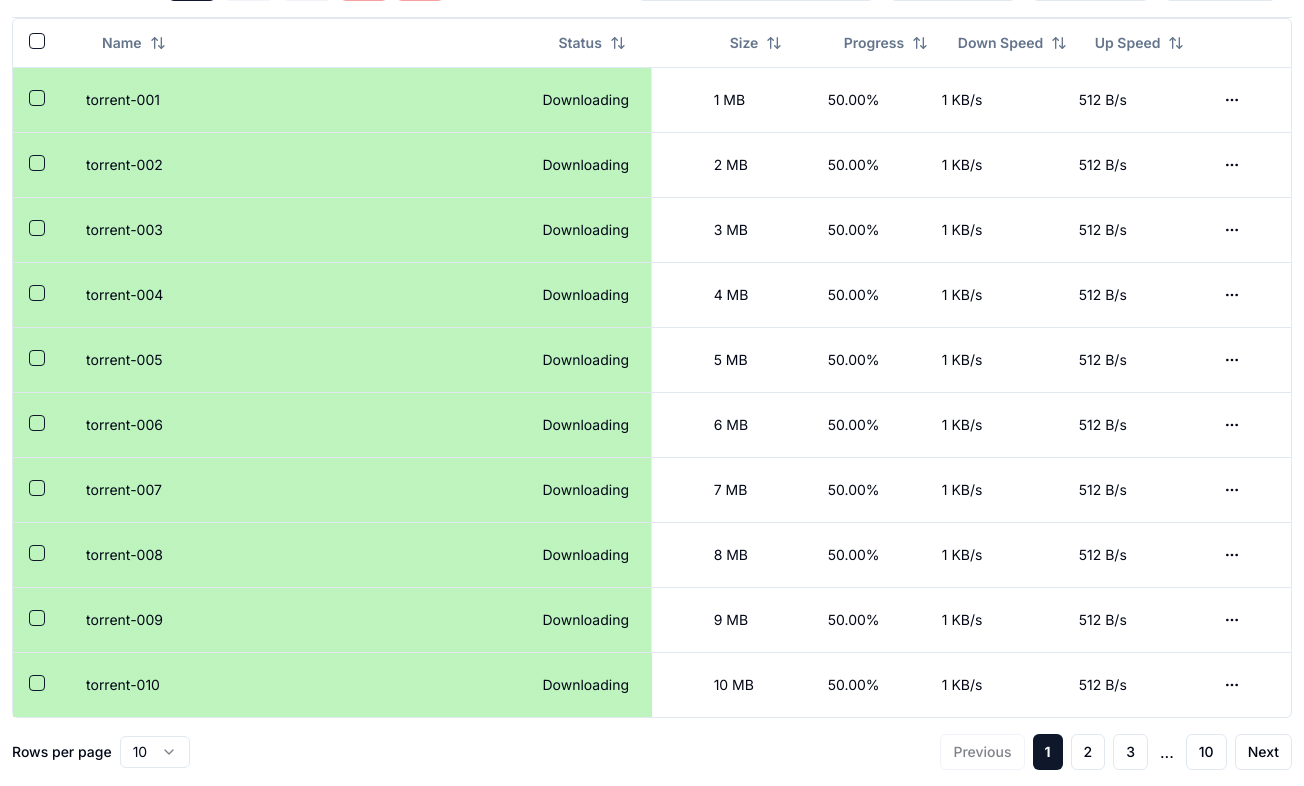
Test case: torrent table › pagination › collapses distant pages into an ellipsis
(page scrolled)
Expected: the text "..." is shown once, top-left (1160, 742), bottom-right (1174, 762)
Click the button "3": click(1131, 752) top-left (1113, 734), bottom-right (1148, 770)
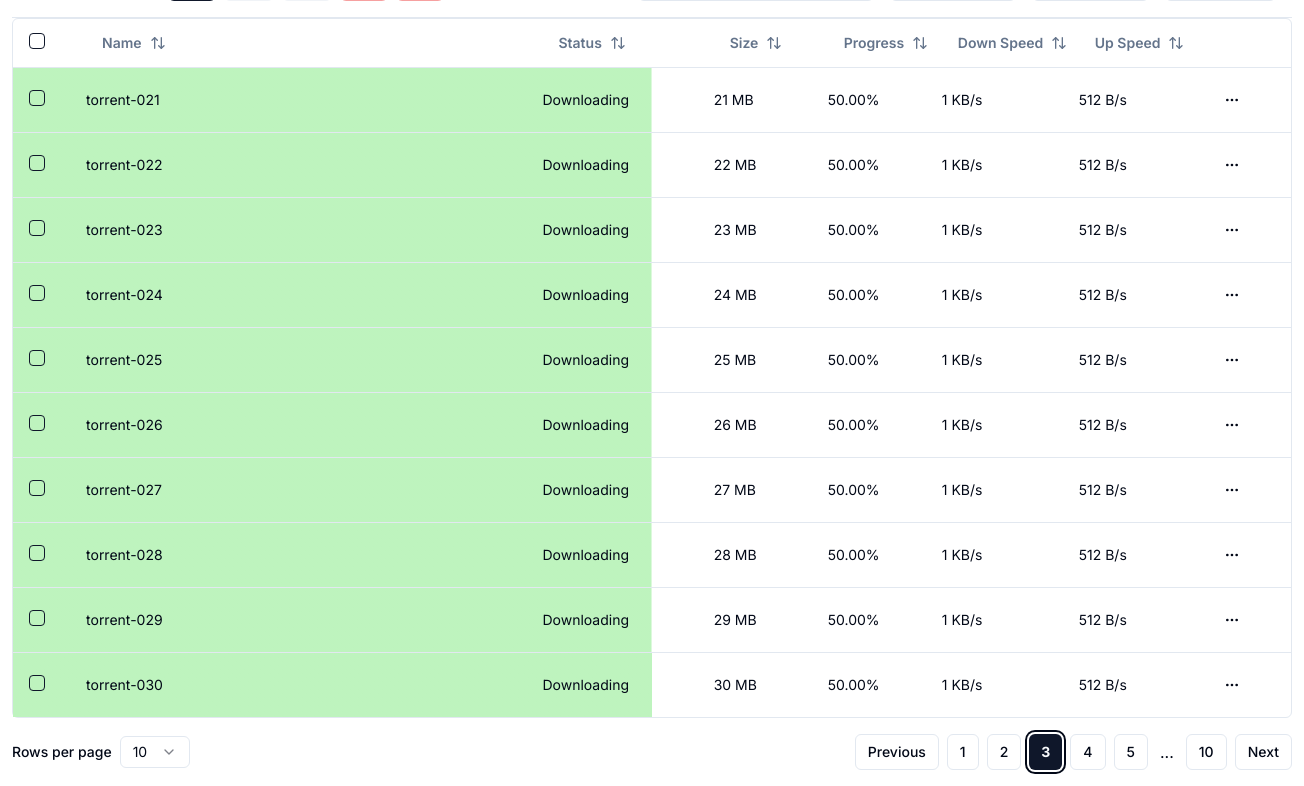
Click the button "5": click(1131, 752) top-left (1114, 734), bottom-right (1148, 770)
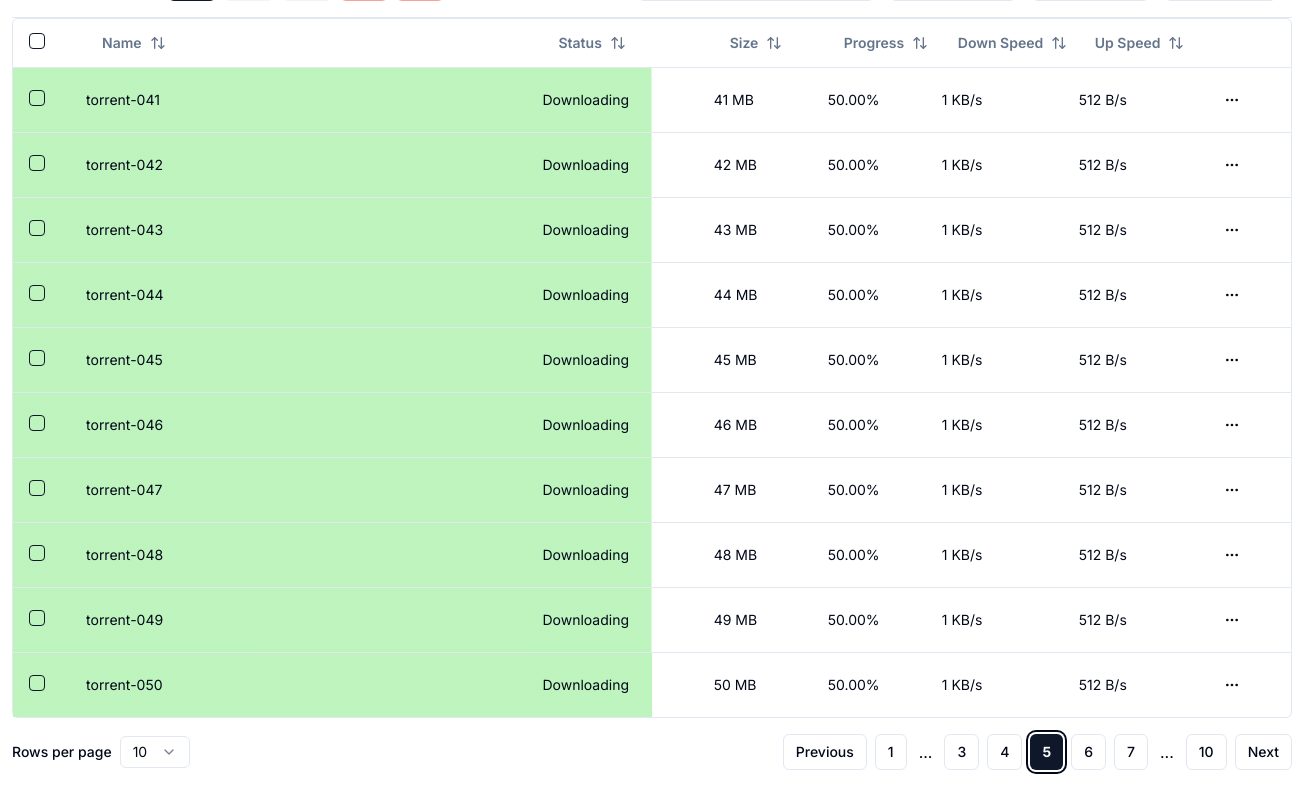
Expected: the text "..." is shown 2 times, top-left (919, 742), bottom-right (932, 762); top-left (1160, 742), bottom-right (1174, 762)
